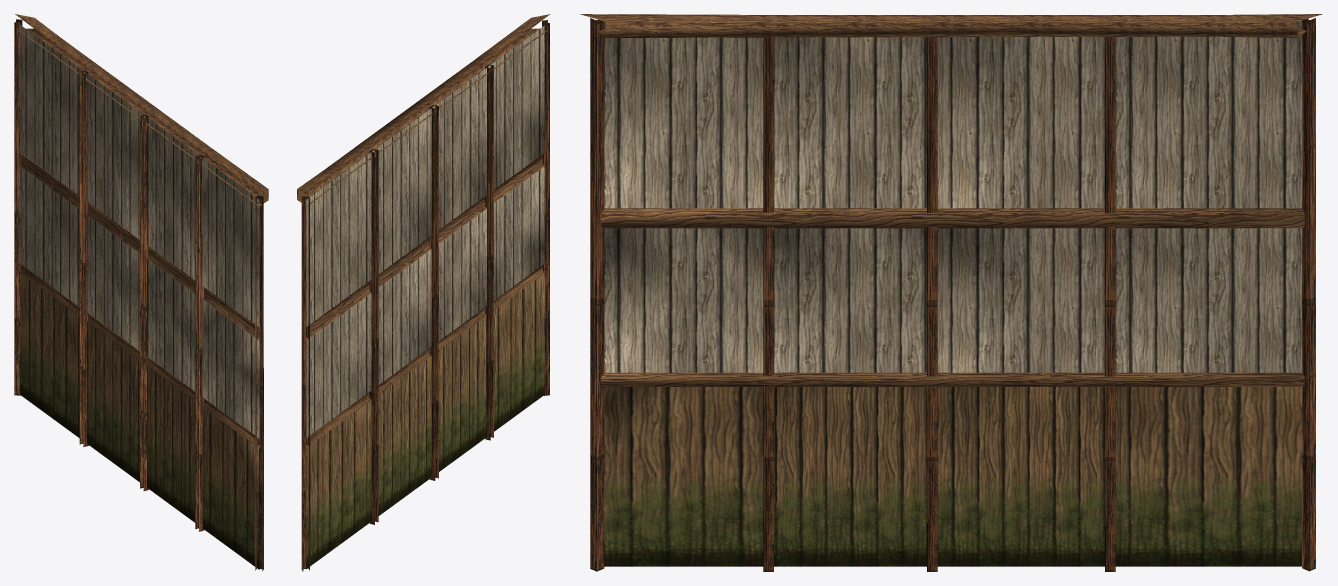
File: LAKETOWN_WAREHOUSE3_PS_WH3_SIDEWALL99848__GX.obj
The picture shows the model from 3 angles, left to right: view 1: azimuth 30°, elevation 25°; view 2: azimuth 150°, elevation 25°; view 3: azimuth 270°, elevation 25°; orthographic projection. The views are drawn at different scales.
Visible parts, largest first — view 1: deWall99848__GX; view 2: deWall99848__GX; view 3: deWall99848__GX.
Part boxes in pixels (box(x1,y1,x2,y2)): deWall99848__GX: box(14, 14, 268, 571); deWall99848__GX: box(297, 14, 550, 571); deWall99848__GX: box(580, 14, 1322, 571).
Bounding box in the file's own units: 63.48 × 1370 × 1655.
